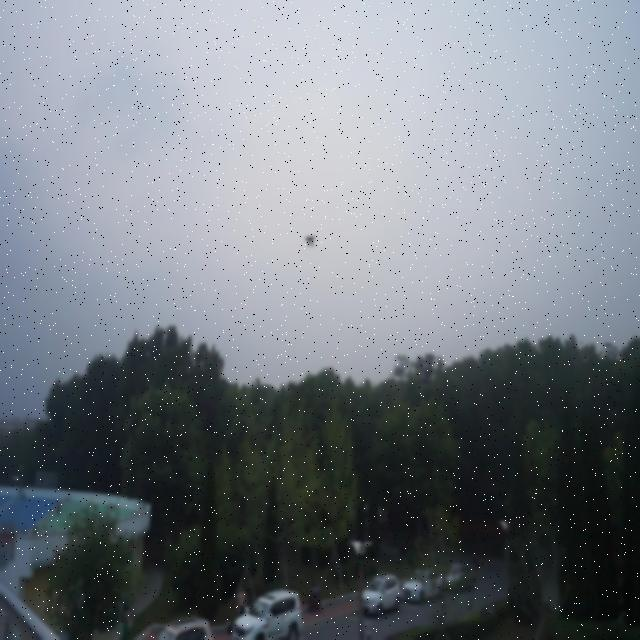UAV: (306, 235, 316, 248)
